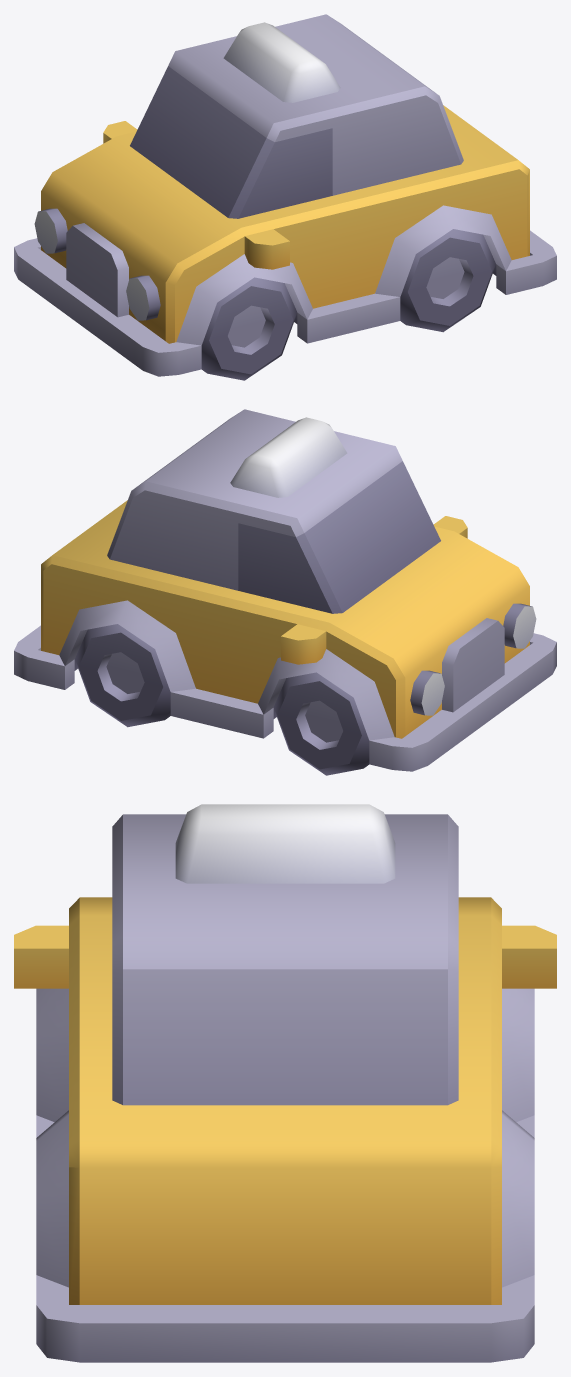
The model's file is mini-skate--vehicle.glb.
3 views of the same model, one above another, from view 1: azimuth 30°, elevation 25°; view 2: azimuth 150°, elevation 25°; view 3: azimuth 270°, elevation 25° (orthographic). The views are drawn at different scales.
Visible parts, largest first — view 1: body, wheel-front-left, wheel-back-left; view 2: body, wheel-front-right, wheel-back-right; view 3: body.
Part boxes in pixels (bbox=[...]): body: bbox=[14, 14, 556, 376]; wheel-front-left: bbox=[201, 277, 297, 380]; wheel-back-left: bbox=[400, 229, 495, 332]; body: bbox=[14, 409, 556, 771]; wheel-front-right: bbox=[273, 672, 369, 775]; wheel-back-right: bbox=[75, 624, 170, 727]; body: bbox=[14, 804, 556, 1362].
Size of the model in its own units: 1.42 by 0.877 by 0.99.
1 material, 1 textured.
